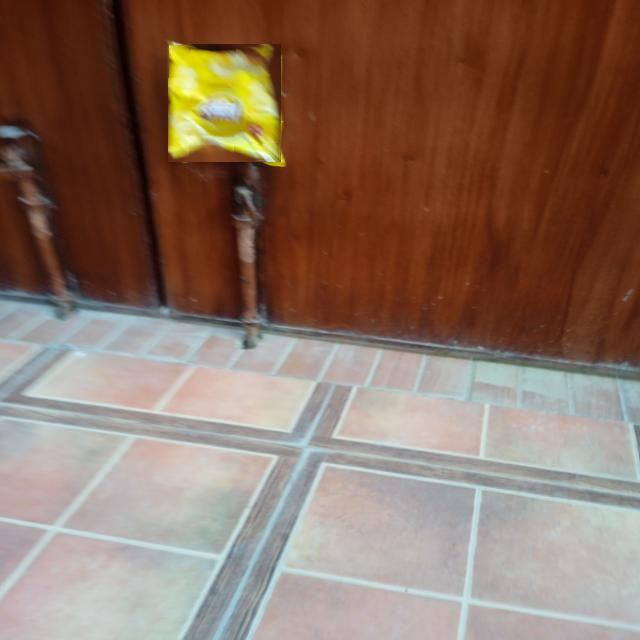Plastic: (168, 44, 281, 162)
